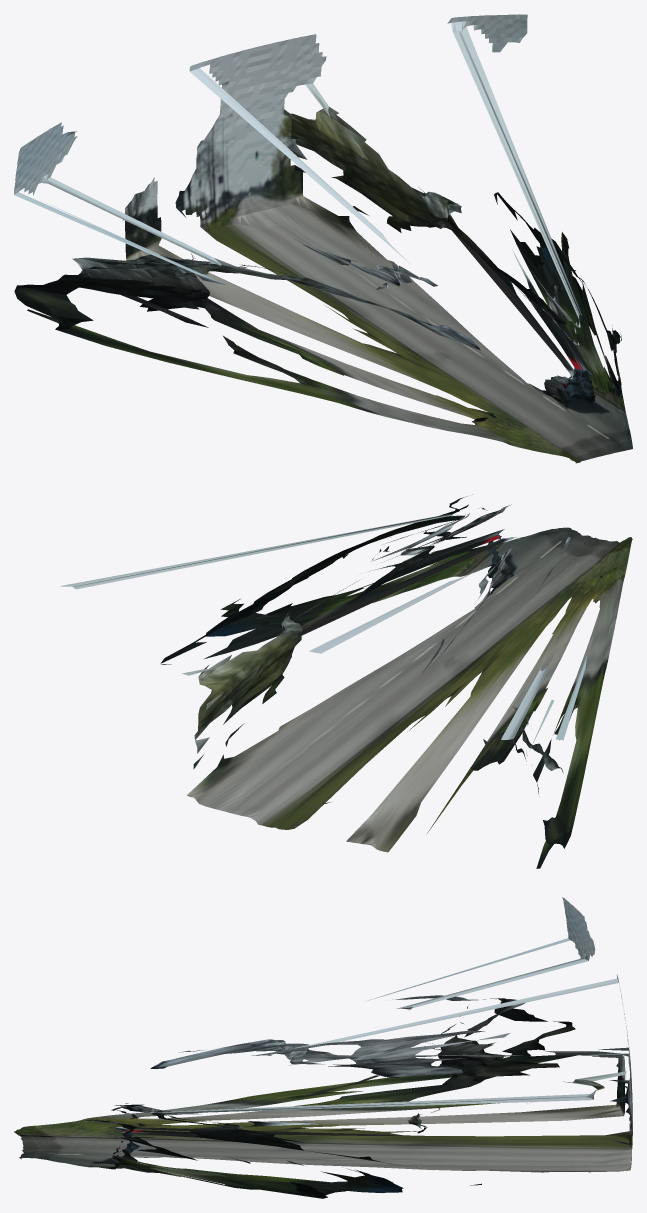
3 views of the same model, one above another, from view 1: azimuth 30°, elevation 25°; view 2: azimuth 150°, elevation 25°; view 3: azimuth 270°, elevation 25° (orthographic). The views are drawn at different scales.
Visible parts, largest first — view 1: defaultobject; view 2: defaultobject; view 3: defaultobject.
Part boxes in pixels (x1,y1,x2,y2): defaultobject: [14, 14, 632, 463]; defaultobject: [60, 494, 632, 868]; defaultobject: [14, 897, 632, 1198].
Bounding box in the file's own units: 38.39 × 13.02 × 45.1.
Materials: 1 (1 with a texture image).
